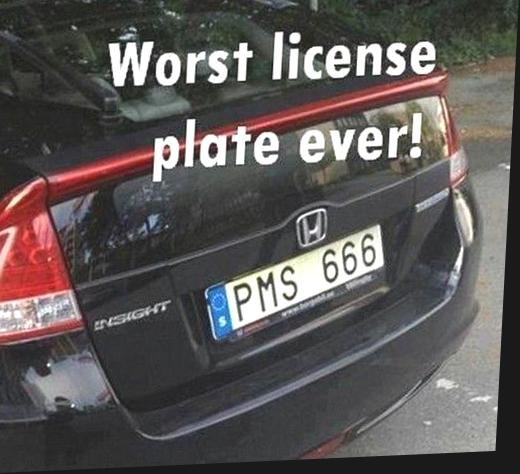License_Plate: (163, 217, 415, 351)
